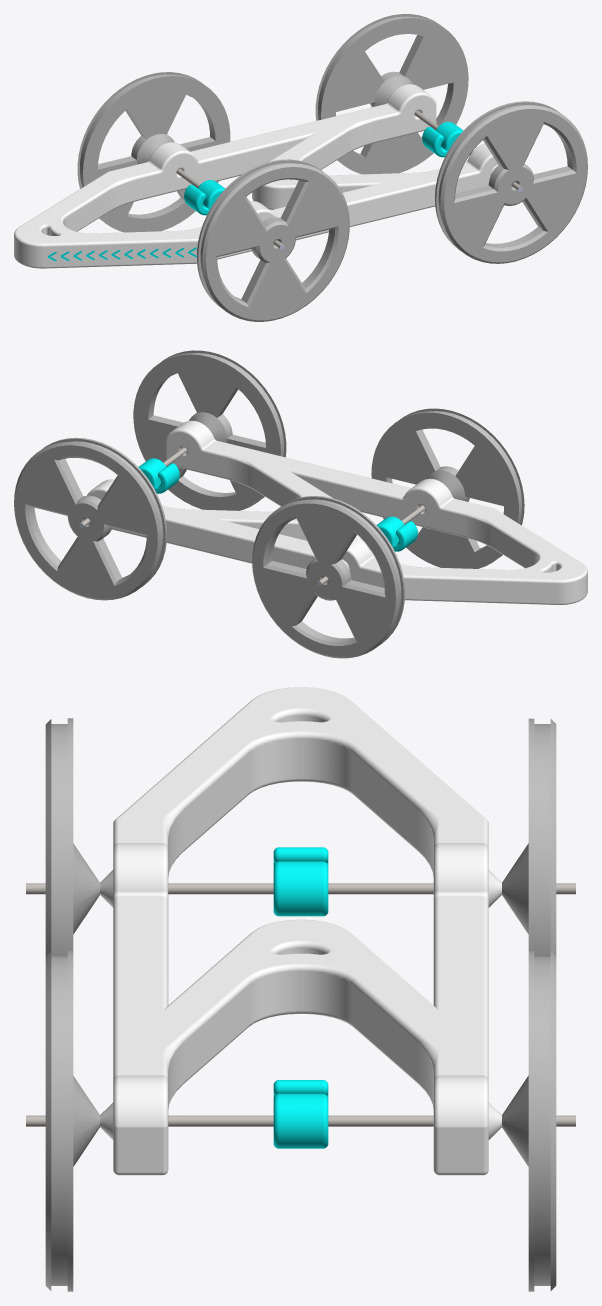
Rendered from MECH2401-RubberbandCar.glb.
3 views of the same model, one above another, from view 1: azimuth 30°, elevation 25°; view 2: azimuth 150°, elevation 25°; view 3: azimuth 270°, elevation 25° (orthographic). The views are drawn at different scales.
Visible parts, largest first — view 1: MECH 2401 (Frame - V4)-1, MECH 2401 (Large Wheel - V4)-2, MECH 2401 (Large Wheel - V4)-1, MECH 2401 (Large Wheel - V4)-4, MECH 2401 (Large Wheel - V4)-3, MECH 2401 (Hook - V1)-5, MECH 2401 (Hook - V1)-4; view 2: MECH 2401 (Frame - V4)-1, MECH 2401 (Large Wheel - V4)-3, MECH 2401 (Large Wheel - V4)-4, MECH 2401 (Large Wheel - V4)-2, MECH 2401 (Large Wheel - V4)-1, MECH 2401 (Hook - V1)-4, MECH 2401 (Hook - V1)-5; view 3: MECH 2401 (Frame - V4)-1, MECH 2401 (Large Wheel - V4)-4, MECH 2401 (Large Wheel - V4)-1, MECH 2401 (Large Wheel - V4)-2, MECH 2401 (Large Wheel - V4)-3, MECH 2401 (Hook - V1)-5, MECH 2401 (Hook - V1)-4, MECH 2401 (2mm rod)-1, MECH 2401 (2mm rod)-2.
Boxes of the visible parts, box(x1,y1,x2,y2) form: MECH 2401 (Frame - V4)-1: box(14, 84, 498, 268); MECH 2401 (Large Wheel - V4)-2: box(197, 159, 349, 321); MECH 2401 (Large Wheel - V4)-1: box(435, 101, 587, 263); MECH 2401 (Large Wheel - V4)-4: box(315, 14, 468, 174); MECH 2401 (Large Wheel - V4)-3: box(77, 72, 230, 232); MECH 2401 (Hook - V1)-5: box(184, 180, 225, 215); MECH 2401 (Hook - V1)-4: box(422, 122, 463, 157); MECH 2401 (Frame - V4)-1: box(87, 420, 587, 604); MECH 2401 (Large Wheel - V4)-3: box(252, 496, 405, 658); MECH 2401 (Large Wheel - V4)-4: box(14, 437, 166, 600); MECH 2401 (Large Wheel - V4)-2: box(371, 408, 524, 568); MECH 2401 (Large Wheel - V4)-1: box(133, 350, 286, 510); MECH 2401 (Hook - V1)-4: box(138, 458, 179, 493); MECH 2401 (Hook - V1)-5: box(376, 516, 417, 551); MECH 2401 (Frame - V4)-1: box(100, 687, 501, 1175); MECH 2401 (Large Wheel - V4)-4: box(502, 951, 556, 1291); MECH 2401 (Large Wheel - V4)-1: box(45, 951, 99, 1291); MECH 2401 (Large Wheel - V4)-2: box(45, 718, 99, 956); MECH 2401 (Large Wheel - V4)-3: box(502, 718, 556, 956); MECH 2401 (Hook - V1)-5: box(273, 847, 328, 916); MECH 2401 (Hook - V1)-4: box(273, 1080, 328, 1148); MECH 2401 (2mm rod)-1: box(26, 1115, 575, 1126); MECH 2401 (2mm rod)-2: box(26, 883, 575, 894).
Bounding box in the file's own units: 0.2132 × 0.062 × 0.1.
